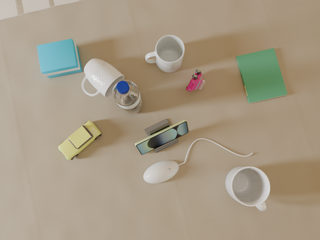book: (236, 48, 287, 103)
bottle: (113, 80, 143, 114)
box: (37, 39, 82, 78)
cup: (225, 166, 270, 211), (82, 59, 124, 97), (145, 35, 185, 72)
mouse: (144, 160, 179, 183)
phone: (135, 120, 189, 154)
toy_car: (58, 121, 101, 160), (186, 70, 205, 91)
